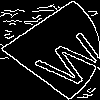W: (24, 25, 100, 91)
